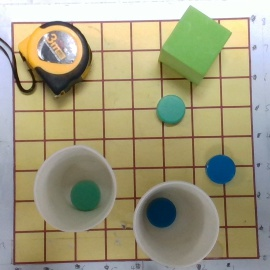blue: (205, 154, 236, 184)
cup_blue: (130, 174, 219, 268)
cup_green: (32, 142, 119, 233)
green: (156, 95, 186, 124)
